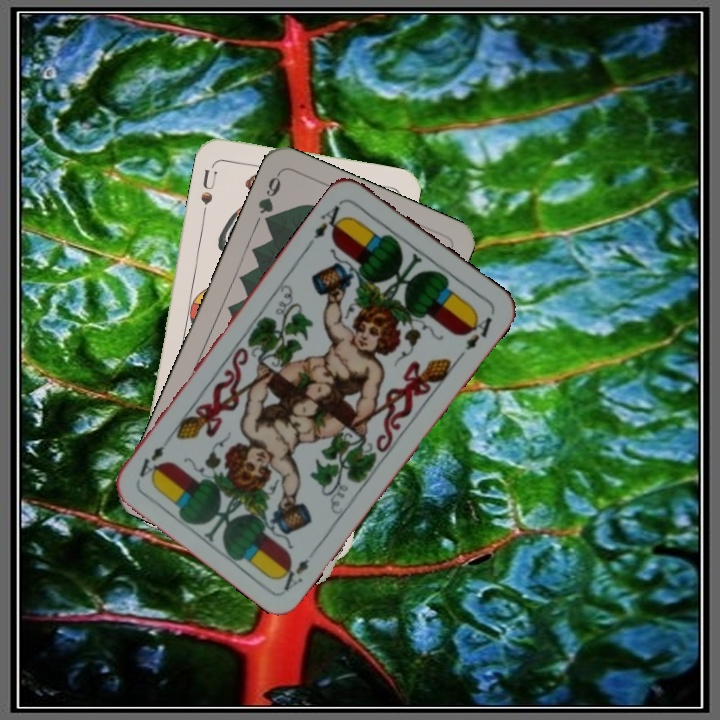EA: (274, 542, 320, 594), (309, 197, 350, 242)
G9: (254, 169, 284, 229)
SU: (196, 165, 220, 216)
